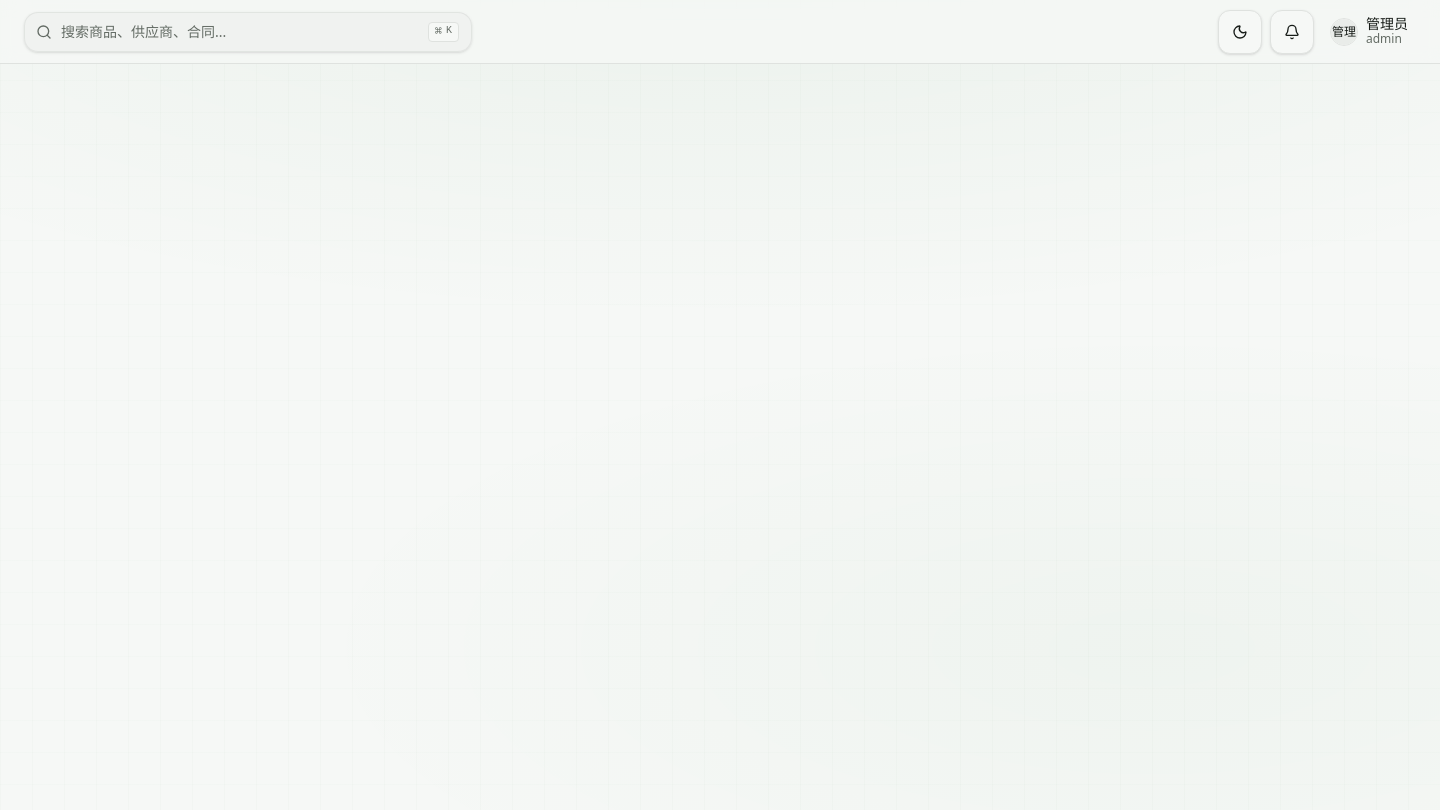
Test: Header › 较慢的旧查询不会覆盖新查询结果
This screenshot has width=1440, height=810.
Click the button "搜索商品、供应商、合同... ⌘ K" at (248,32), box [24, 12, 472, 52]
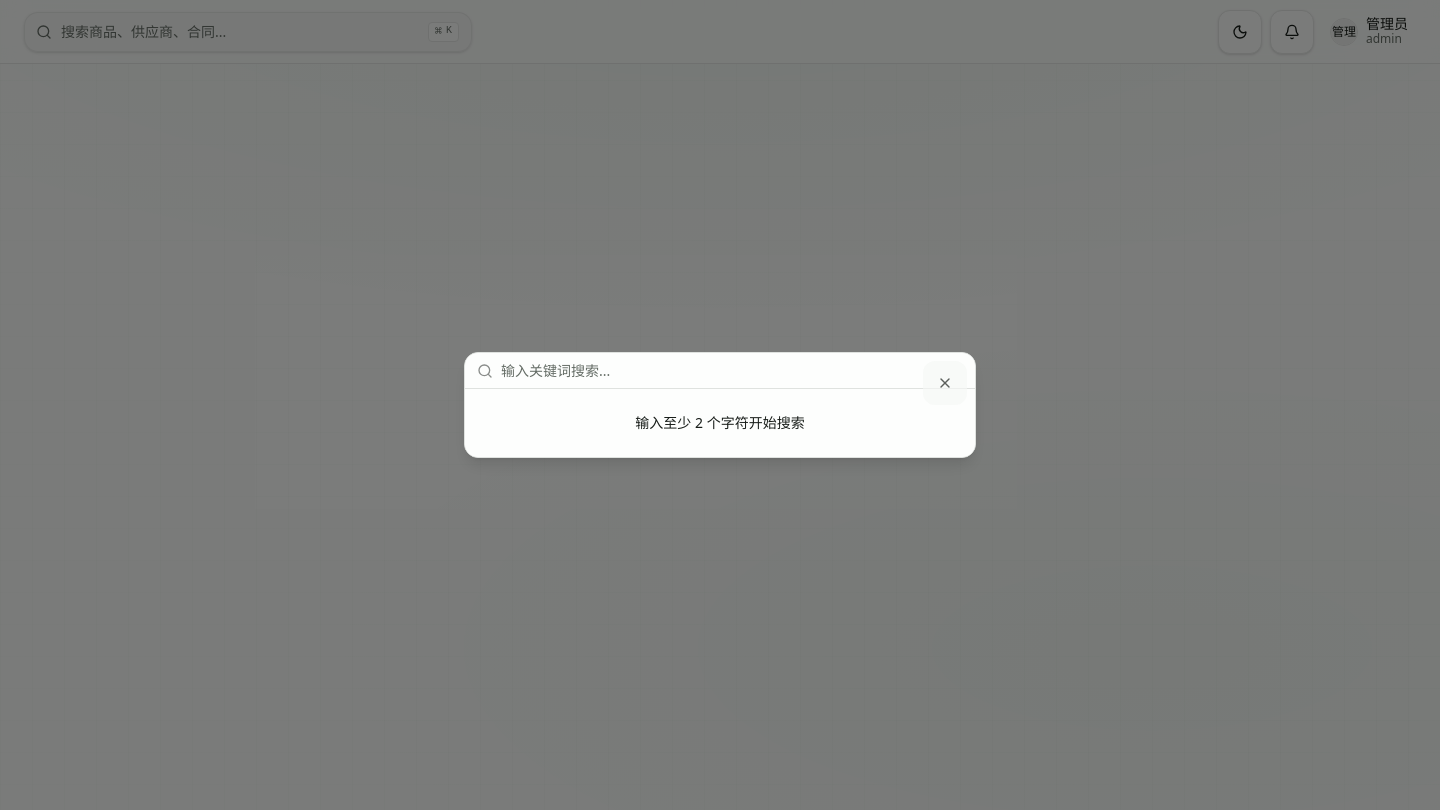
Type "旧查询" into the dropdown with placeholder "输入关键词搜索..." at (732,370), box [501, 350, 963, 390]
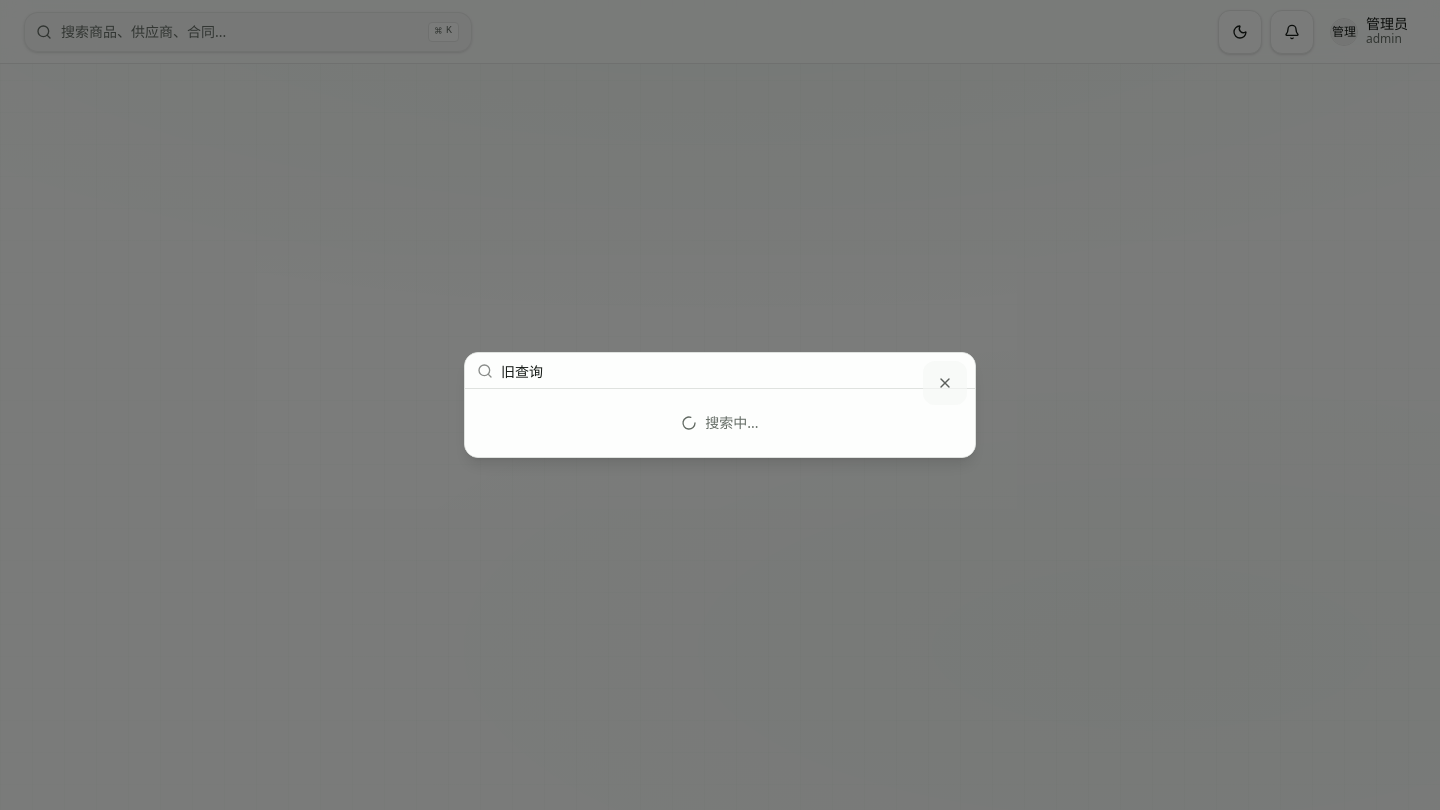
Replace the text in the dropdown with placeholder "输入关键词搜索..." with "新查询" at (732,370), box [501, 350, 963, 390]
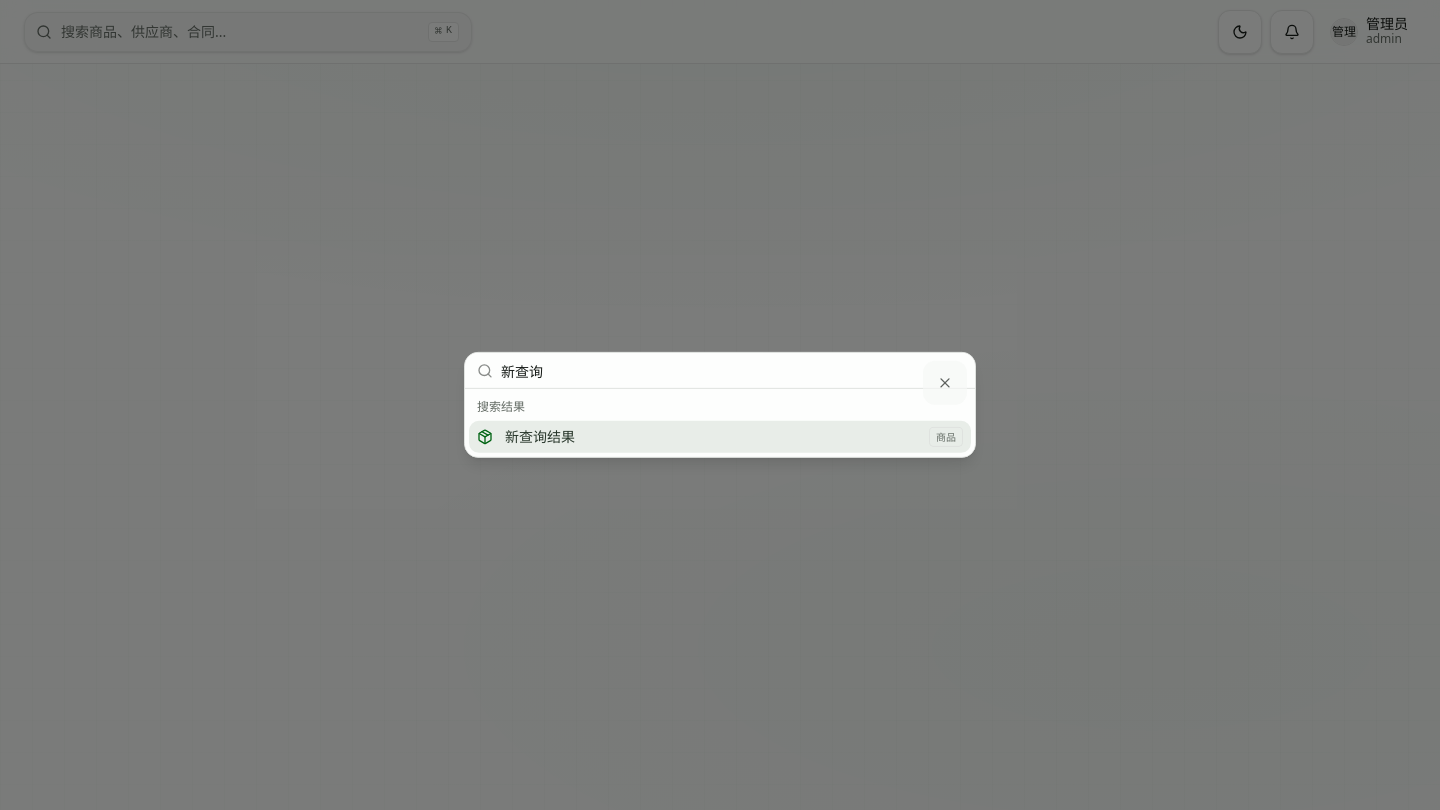
Expected: the text "新查询结果" is shown, [505, 427, 575, 446]
